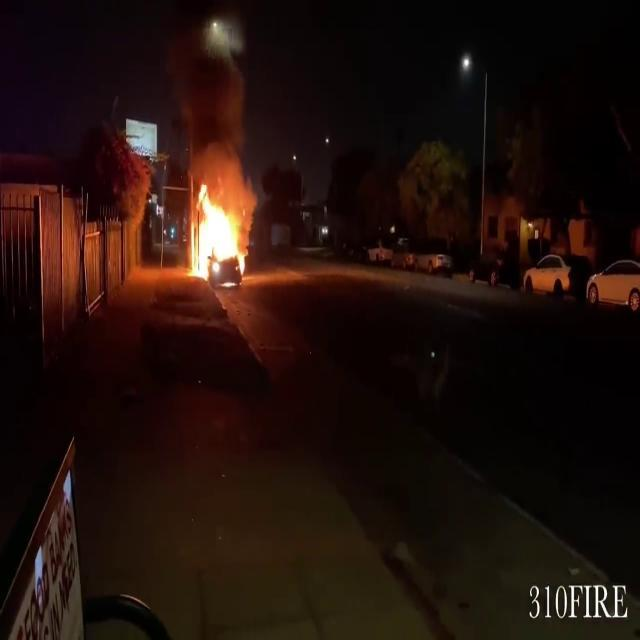Fire: (186, 180, 250, 282)
Smoke: (172, 19, 252, 190)
